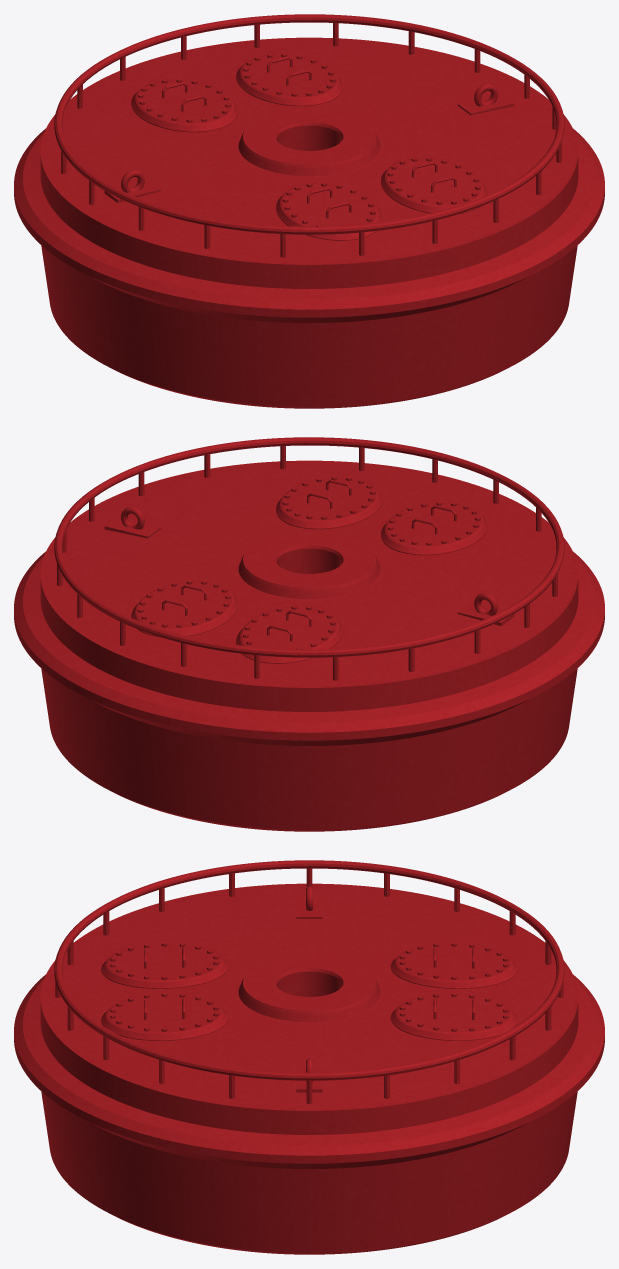
File: NEW694_MooringBuoy_LOD0.fbx
3 views of the same model, one above another, from view 1: azimuth 30°, elevation 25°; view 2: azimuth 150°, elevation 25°; view 3: azimuth 270°, elevation 25° (orthographic).
Visible parts, largest first — view 1: Buoy_body_integral_closed_hatches_central_through_bore, Four_closed_oval_hatch_covers_seated_on_deck, Low_circular_rail_and_twenty_attached_supports, Four_hatch_bolt_sets_and_eight_grab_handles, Two_lifting_eye_assemblies_with_attached_baseplates; view 2: Buoy_body_integral_closed_hatches_central_through_bore, Four_closed_oval_hatch_covers_seated_on_deck, Low_circular_rail_and_twenty_attached_supports, Four_hatch_bolt_sets_and_eight_grab_handles, Two_lifting_eye_assemblies_with_attached_baseplates; view 3: Buoy_body_integral_closed_hatches_central_through_bore, Four_closed_oval_hatch_covers_seated_on_deck, Low_circular_rail_and_twenty_attached_supports, Four_hatch_bolt_sets_and_eight_grab_handles, Two_lifting_eye_assemblies_with_attached_baseplates.
Boxes of the visible parts, x1,y1,x2,y2 form: Buoy_body_integral_closed_hatches_central_through_bore: (14,37,604,408); Four_closed_oval_hatch_covers_seated_on_deck: (131,54,487,240); Low_circular_rail_and_twenty_attached_supports: (54,14,564,257); Four_hatch_bolt_sets_and_eight_grab_handles: (138,53,480,226); Two_lifting_eye_assemblies_with_attached_baseplates: (104,84,514,202); Buoy_body_integral_closed_hatches_central_through_bore: (14,460,604,831); Four_closed_oval_hatch_covers_seated_on_deck: (131,477,487,663); Low_circular_rail_and_twenty_attached_supports: (54,437,564,680); Four_hatch_bolt_sets_and_eight_grab_handles: (138,476,480,649); Two_lifting_eye_assemblies_with_attached_baseplates: (104,507,514,625); Buoy_body_integral_closed_hatches_central_through_bore: (14,883,604,1254); Four_closed_oval_hatch_covers_seated_on_deck: (101,944,517,1040); Low_circular_rail_and_twenty_attached_supports: (54,860,564,1104); Four_hatch_bolt_sets_and_eight_grab_handles: (110,942,508,1031); Two_lifting_eye_assemblies_with_attached_baseplates: (296,886,322,1092).
Size of the model in its own units: 2 by 0.6733 by 2.
1 material, 1 textured.
